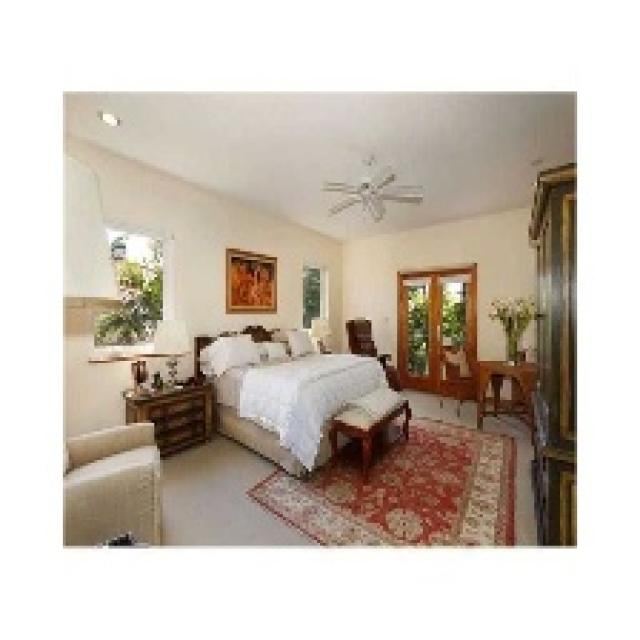Bed: (195, 323, 392, 480)
